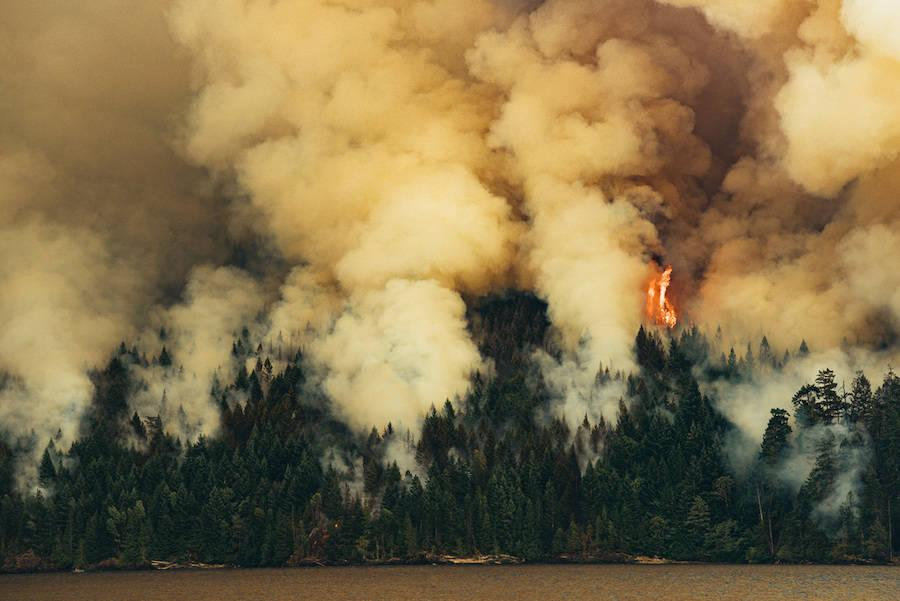smoke: (189, 6, 494, 471), (502, 13, 701, 467), (708, 29, 893, 512), (3, 94, 129, 501), (123, 266, 260, 456)
